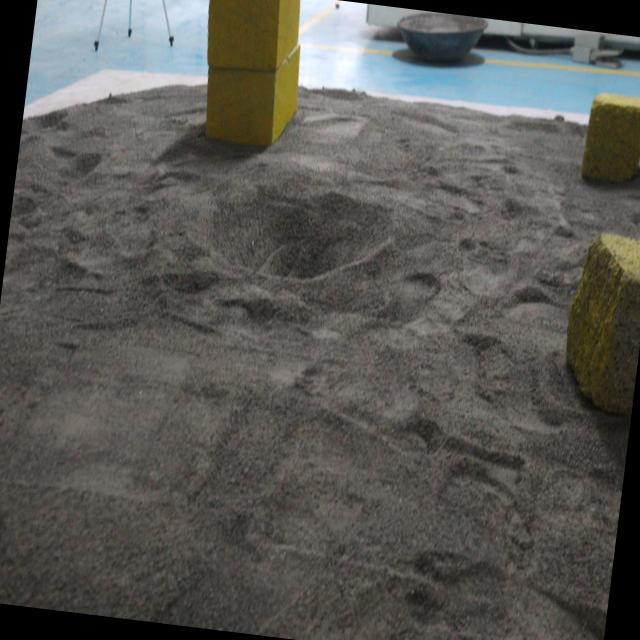box: (185, 0, 319, 158), (558, 224, 640, 404), (574, 92, 640, 202)
crater: (185, 168, 404, 306)
